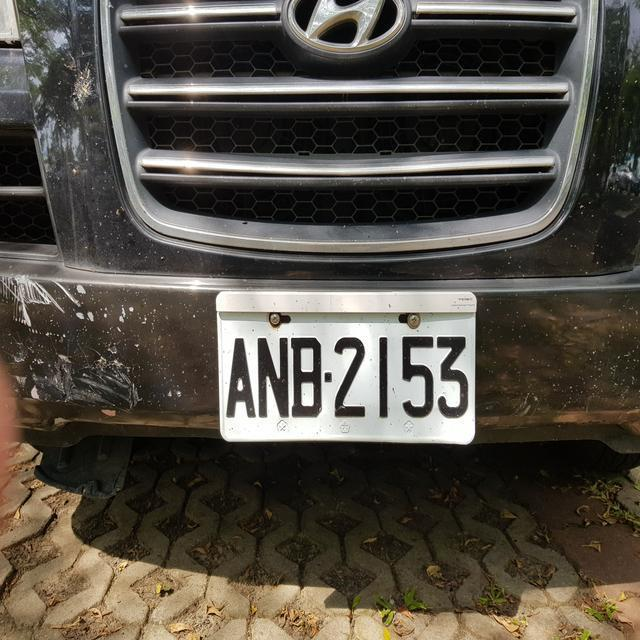plate: (217, 327, 473, 425)
